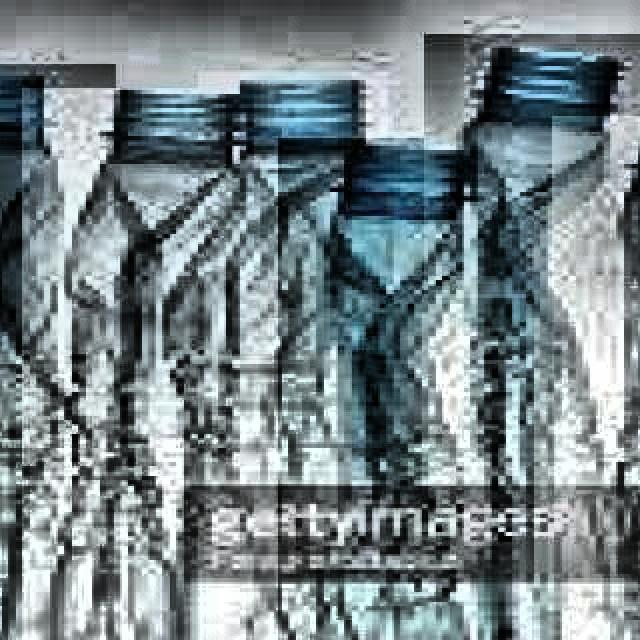plastic: (278, 138, 534, 640), (22, 88, 250, 640), (198, 72, 388, 640), (0, 64, 116, 640), (424, 34, 640, 298), (552, 116, 640, 454)
